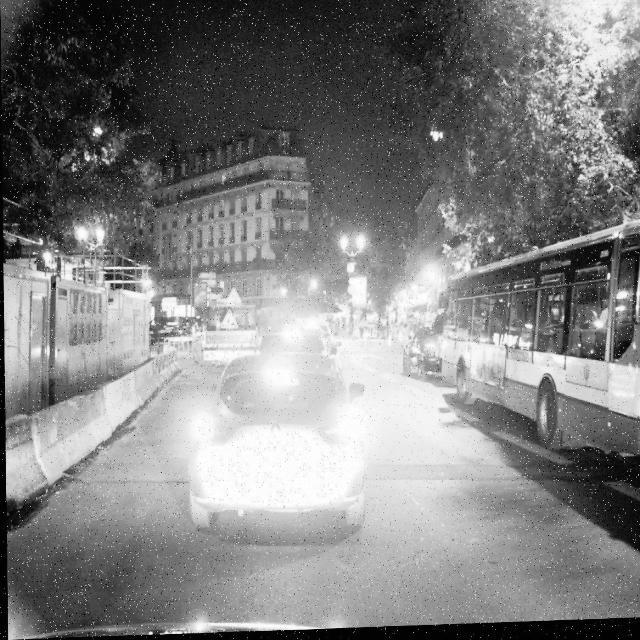Bus: (439, 215, 640, 472)
Car: (192, 352, 366, 540)
Truck: (200, 302, 258, 375)
